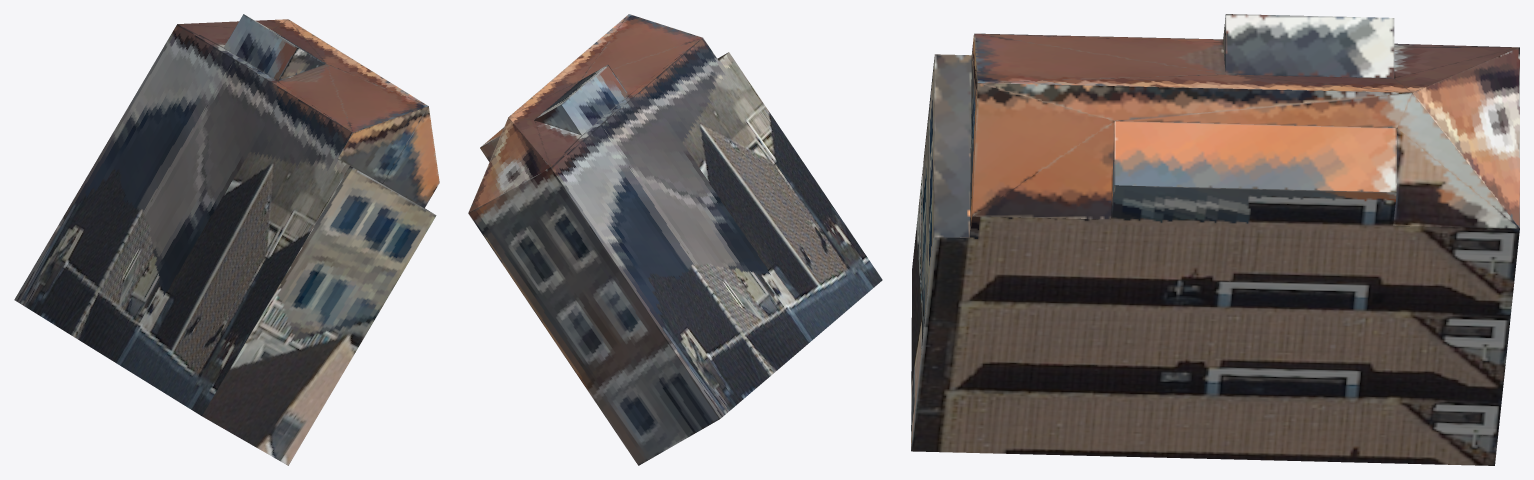
The picture shows the model from 3 angles, left to right: view 1: azimuth 30°, elevation 25°; view 2: azimuth 150°, elevation 25°; view 3: azimuth 270°, elevation 25°; orthographic projection. The views are drawn at different scales.
Parts seen in each view (by area): view 1: BAG_0599100000688753 (×7); view 2: BAG_0599100000688753 (×6); view 3: BAG_0599100000688753 (×6).
Part boxes in pixels (x1,y1,x2,y2): BAG_0599100000688753 (×7): (14, 14, 439, 465); BAG_0599100000688753 (×6): (468, 14, 882, 465); BAG_0599100000688753 (×6): (911, 14, 1519, 465).
Size of the model in its own units: 11.64 by 12.93 by 13.14.
Materials: 6 (6 with a texture image).
